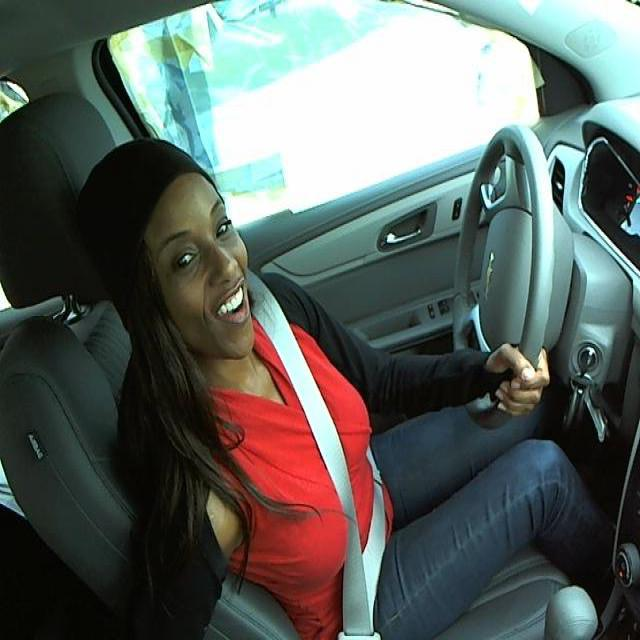seatbelt: (255, 329, 403, 636)
